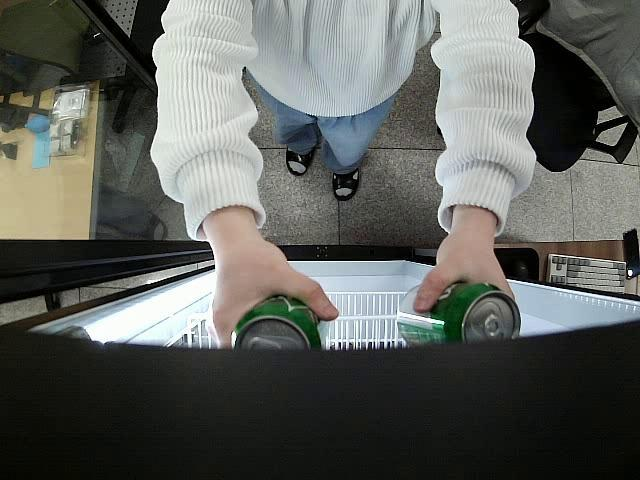12_chilsungCider: (395, 284, 522, 347), (232, 296, 325, 355)
